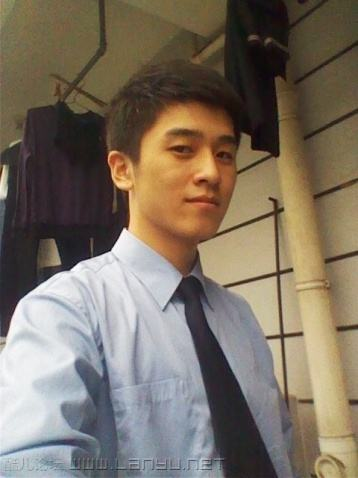person: (25, 56, 296, 458)
